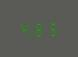eight: (32, 20, 44, 36)
five: (45, 19, 57, 36)
four: (18, 20, 30, 37)
